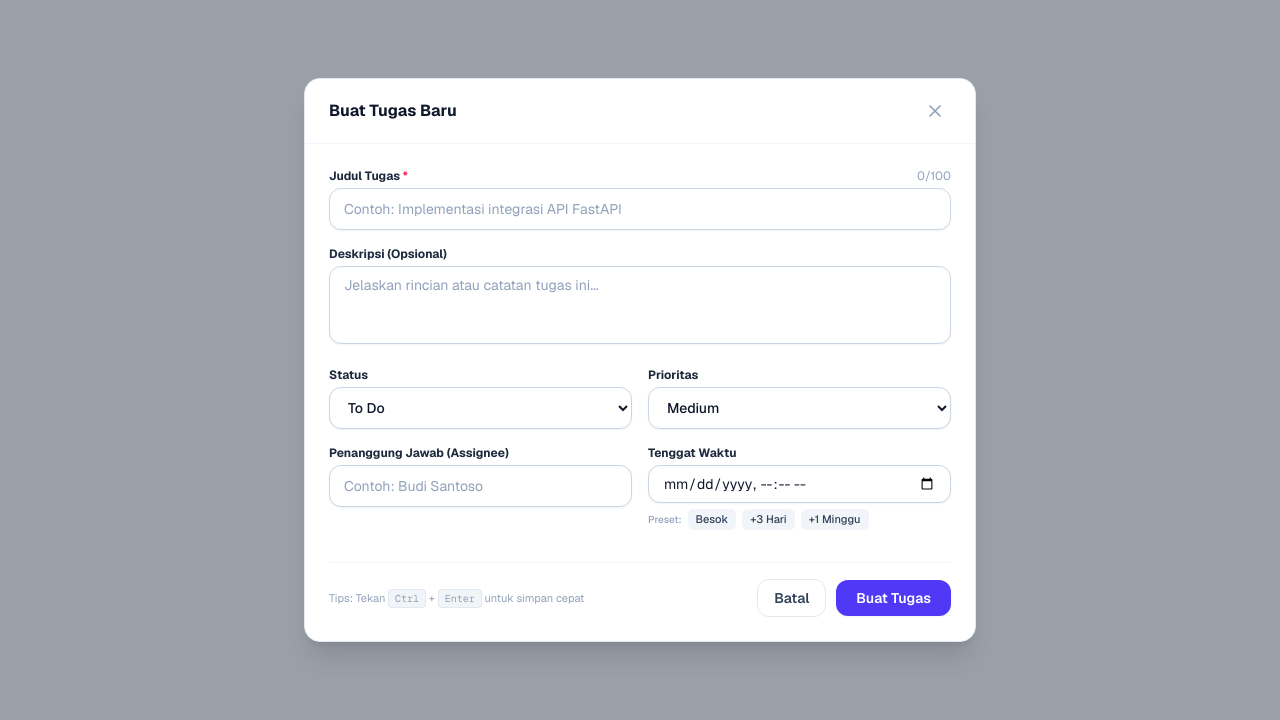
Scenario: TaskFormModal Component › menolak tanggal tenggat waktu yang sudah lampau pada tugas baru
The width and height of the screenshot is (1280, 720).
// Isi judul valid
Type "Tugas Pengujian" into the field labelled "Judul Tugas *". click: (640, 209)
box: [329, 188, 951, 230]
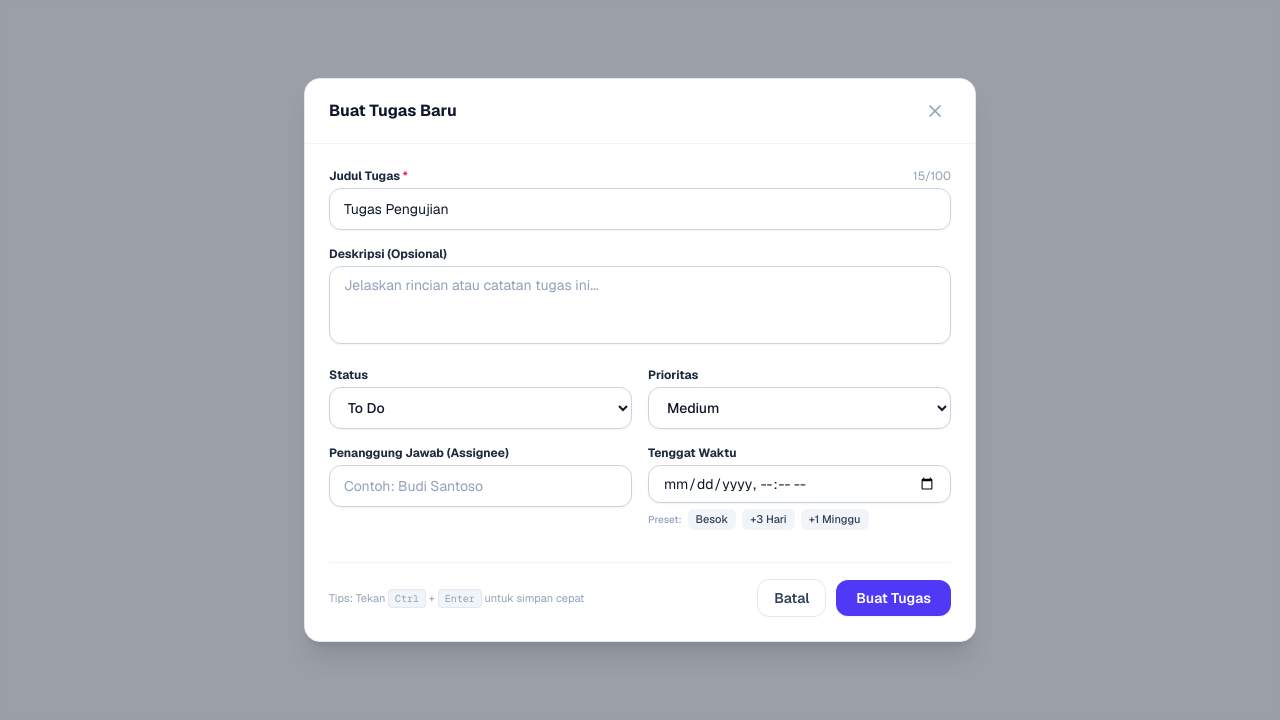
// Masukkan tanggal lampau (misal: tahun 2020)
Type "2020-01-01T10:00" into the field labelled "Tenggat Waktu". click: (800, 484)
box: [648, 465, 951, 503]
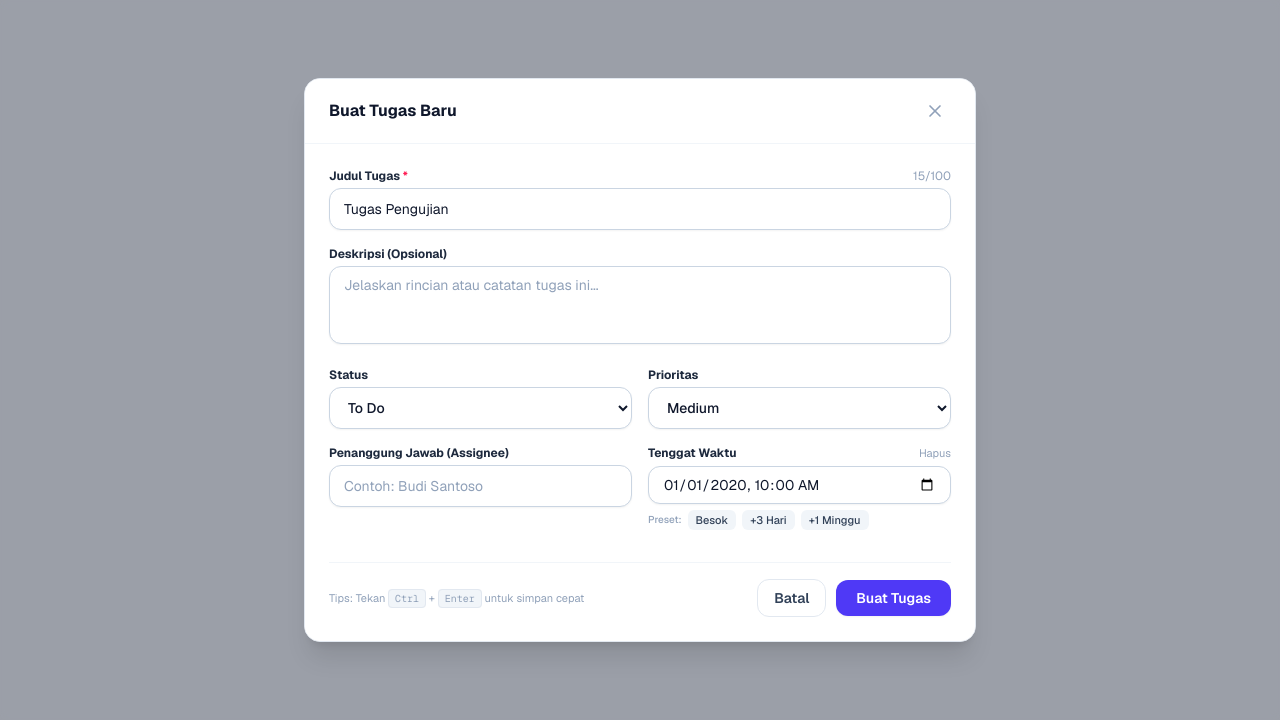
Click the button "Buat Tugas". click: (894, 598)
box: [836, 580, 951, 616]
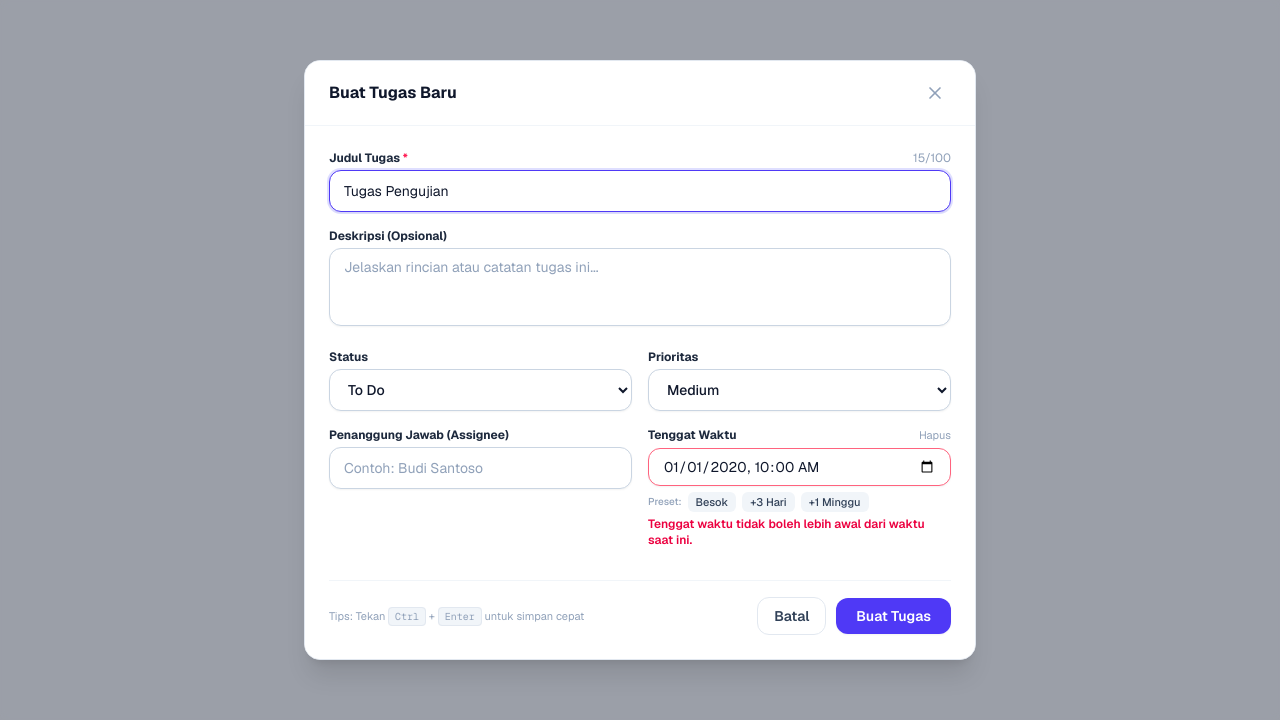
Expected: the text "Tenggat waktu tidak boleh lebih awal dari waktu saat ini." is shown, [648, 516, 951, 548]
